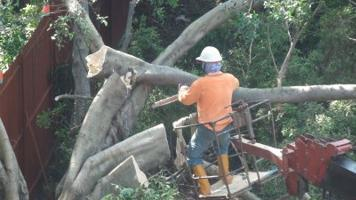person: (177, 46, 240, 196)
